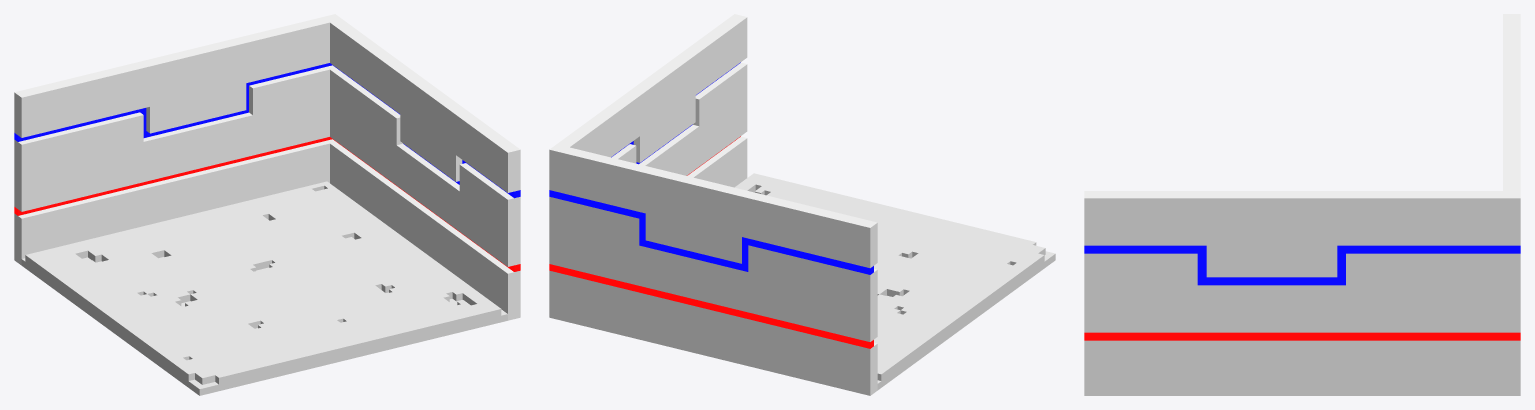
File: corridorCornerLeft01_NoRoof.fbx
3 views of the same model, side by side, from view 1: azimuth 30°, elevation 25°; view 2: azimuth 150°, elevation 25°; view 3: azimuth 270°, elevation 25° (orthographic). The views are drawn at different scales.
Parts seen in each view (by area): view 1: floor1.006, wall_left1.007, wall_left1.008; view 2: wall_left1.007, floor1.006, wall_left1.008; view 3: wall_left1.008, wall_left1.007.
Part boxes in pixels (x1,y1,x2,y2): floor1.006: [21, 181, 507, 395]; wall_left1.007: [14, 14, 342, 265]; wall_left1.008: [330, 19, 520, 320]; wall_left1.007: [549, 144, 877, 395]; floor1.006: [734, 173, 1055, 390]; wall_left1.008: [557, 14, 747, 187]; wall_left1.008: [1084, 191, 1502, 395]; wall_left1.007: [1503, 14, 1520, 395].
Bounding box in the file's own units: 4 × 2 × 4.
3 materials, 3 textured.
